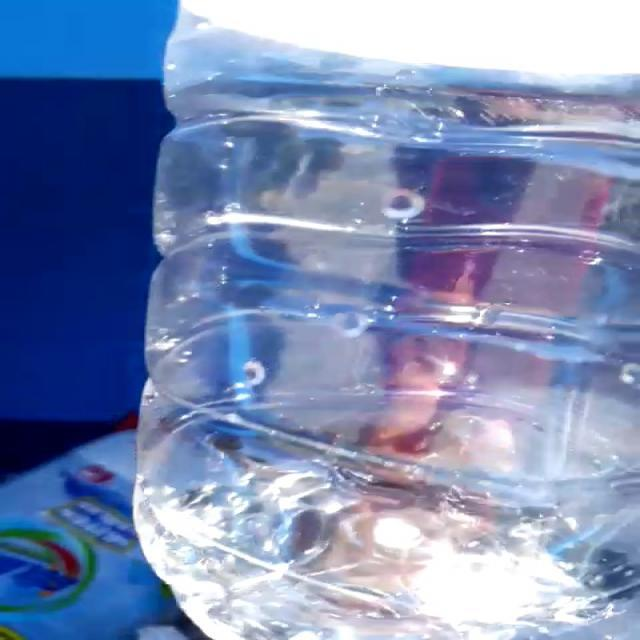Plastic: (135, 15, 639, 640)
